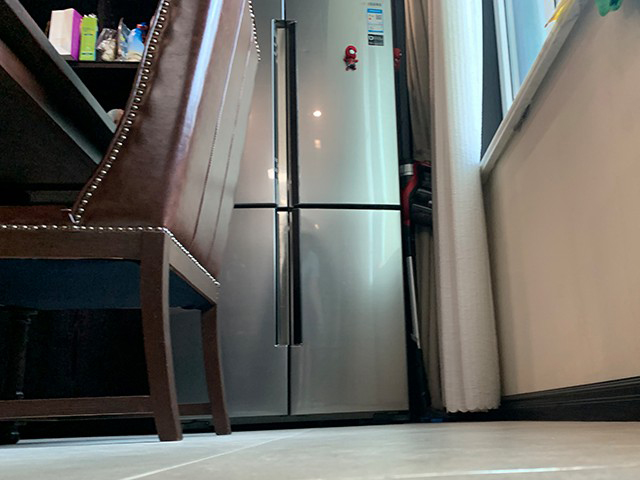curtain: (404, 1, 501, 411)
stool: (1, 1, 260, 444)
